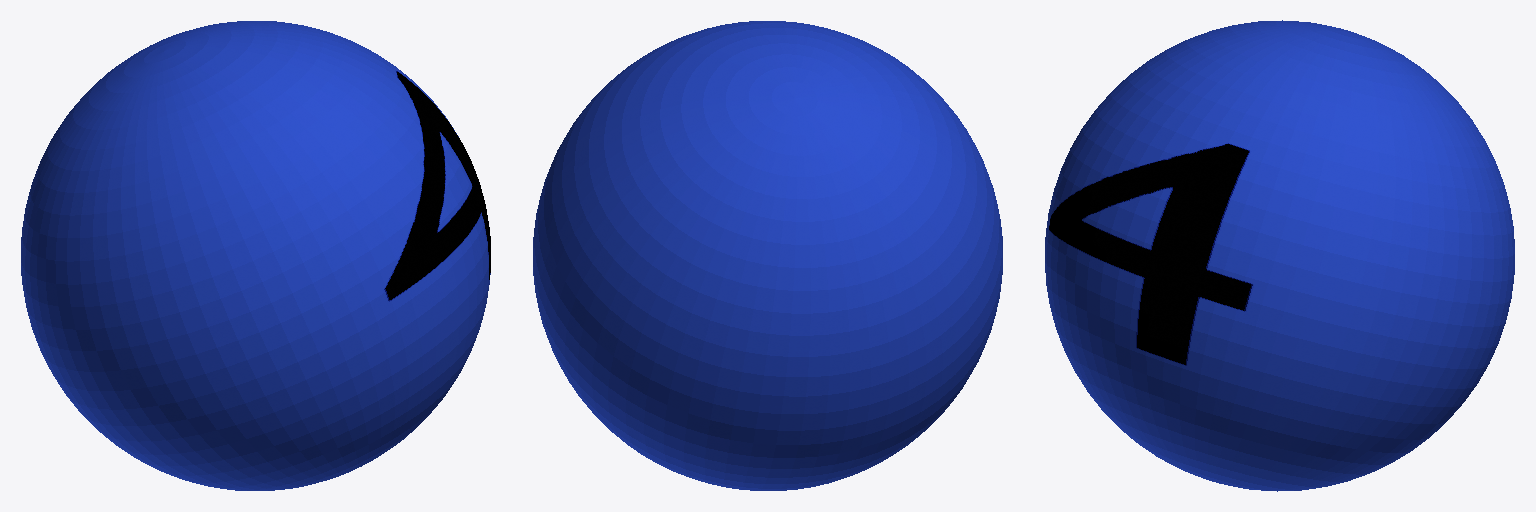
3 renders of one model, left to right at view 1: azimuth 30°, elevation 25°; view 2: azimuth 150°, elevation 25°; view 3: azimuth 270°, elevation 25°, orthographic.
Parts seen in each view (by area): view 1: Sphere; view 2: Sphere; view 3: Sphere.
Part boxes in pixels (left/top/right/bottom): Sphere: left=21, top=21, right=490, bottom=490; Sphere: left=533, top=21, right=1002, bottom=490; Sphere: left=1045, top=20, right=1514, bottom=491.
Bounding box in the file's own units: 2 × 2 × 2.
1 materials, 1 textured.